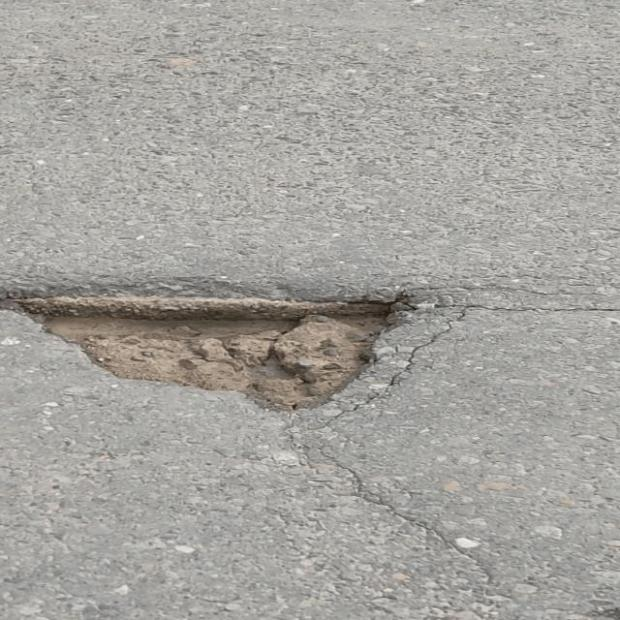lubang: (7, 294, 445, 410)
